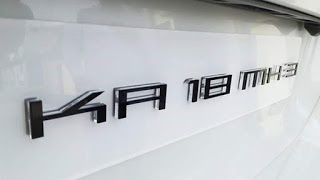number_plate: (18, 33, 320, 157)
